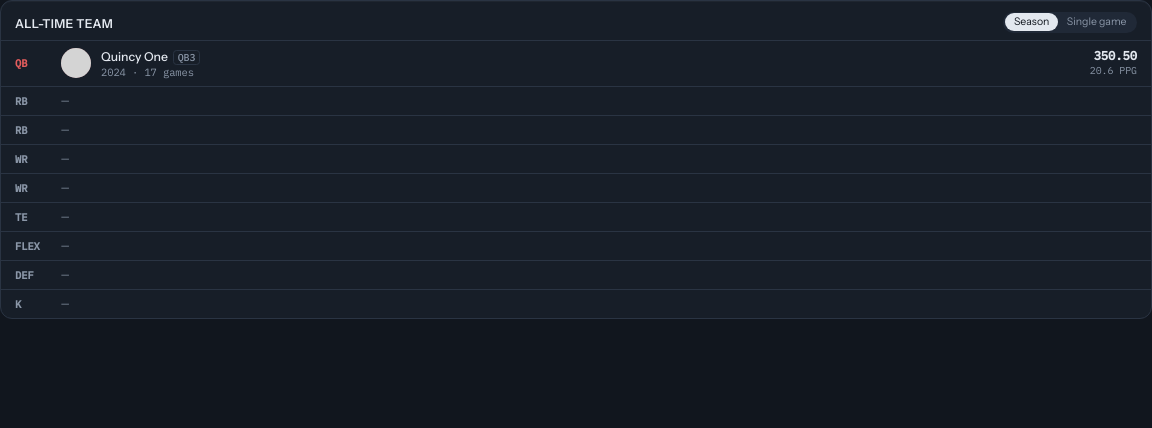
Test case: AllTimeTeam › lists every slot for the best seasons with points, PPG and position rank, then switches to single games linking the box score
expect the text "QB3" is shown: met, box [173, 50, 200, 64]
expect the text "350.50" is shown: met, box [1090, 48, 1137, 64]
Click the button "Single game": (1097, 22) [1058, 13, 1135, 31]
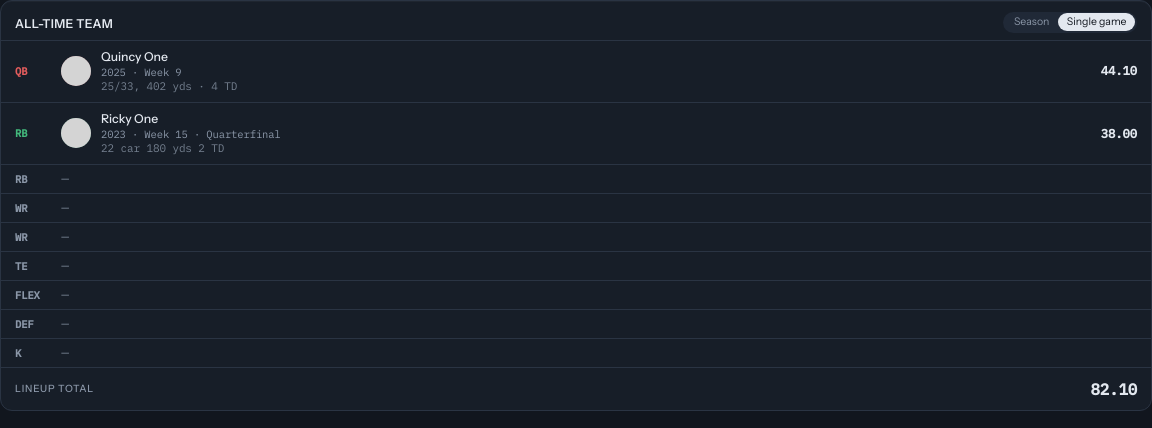
expect the text "44.10" is shown: met, box [1101, 62, 1137, 80]
expect the text "2023 · Week 15 · Quarterfinal" is shown: met, box [101, 127, 281, 141]
expect the text "25/33, 402 yds · 4 TD" is shown: met, box [101, 79, 237, 93]
